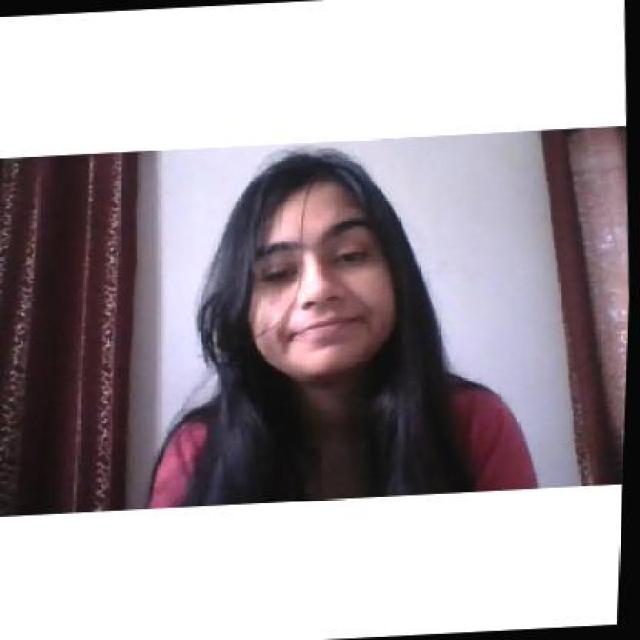attentif: (241, 146, 405, 382)
